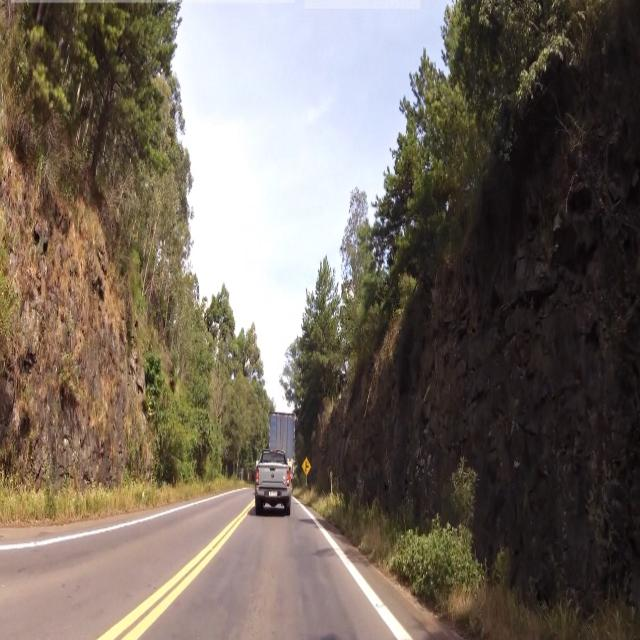A-7b: (302, 455, 313, 478)
